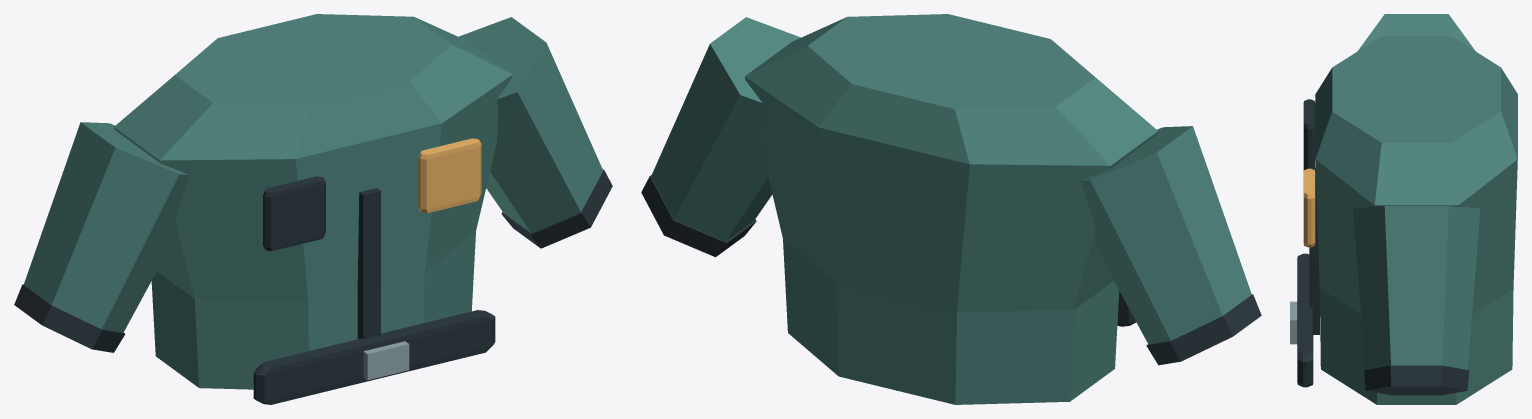
Rendered from SM_NPC_TOP_000_Civilian.glb.
3 renders of one model, left to right at view 1: azimuth 30°, elevation 25°; view 2: azimuth 150°, elevation 25°; view 3: azimuth 270°, elevation 25°, orthographic. The views are drawn at different scales.
Visible parts, largest first — view 1: SM_NPC_TOP_000_Civilian; view 2: SM_NPC_TOP_000_Civilian; view 3: SM_NPC_TOP_000_Civilian.
Boxes of the visible parts, <box> form: SM_NPC_TOP_000_Civilian: <box>14,14,612,404</box>; SM_NPC_TOP_000_Civilian: <box>641,14,1261,404</box>; SM_NPC_TOP_000_Civilian: <box>1290,14,1517,404</box>.
Bounding box in the file's own units: 1.03 × 0.48 × 0.3888.
